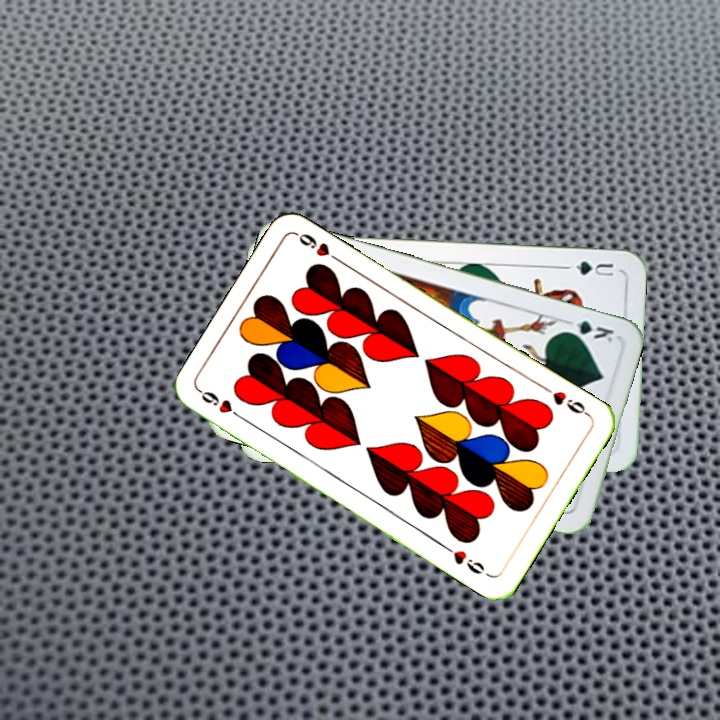GK: (558, 316, 617, 345)
GU: (561, 257, 616, 279)
H9: (196, 386, 249, 424), (540, 382, 593, 419)
